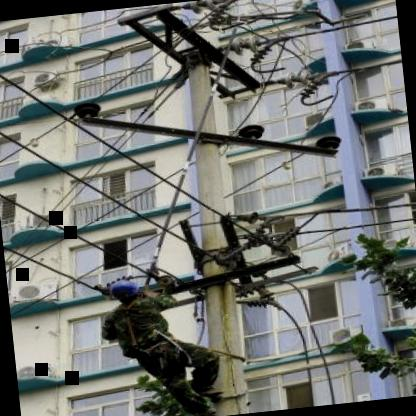helmet: (105, 276, 148, 306)
